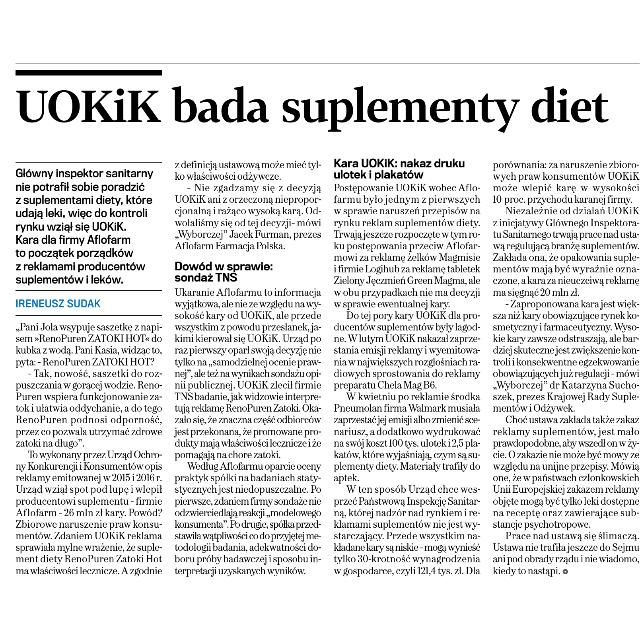author: (11, 294, 105, 312)
body: (328, 155, 484, 579), (170, 157, 324, 577), (488, 158, 640, 578), (11, 319, 167, 579)
lead: (13, 162, 157, 286)
title: (9, 79, 620, 141)
